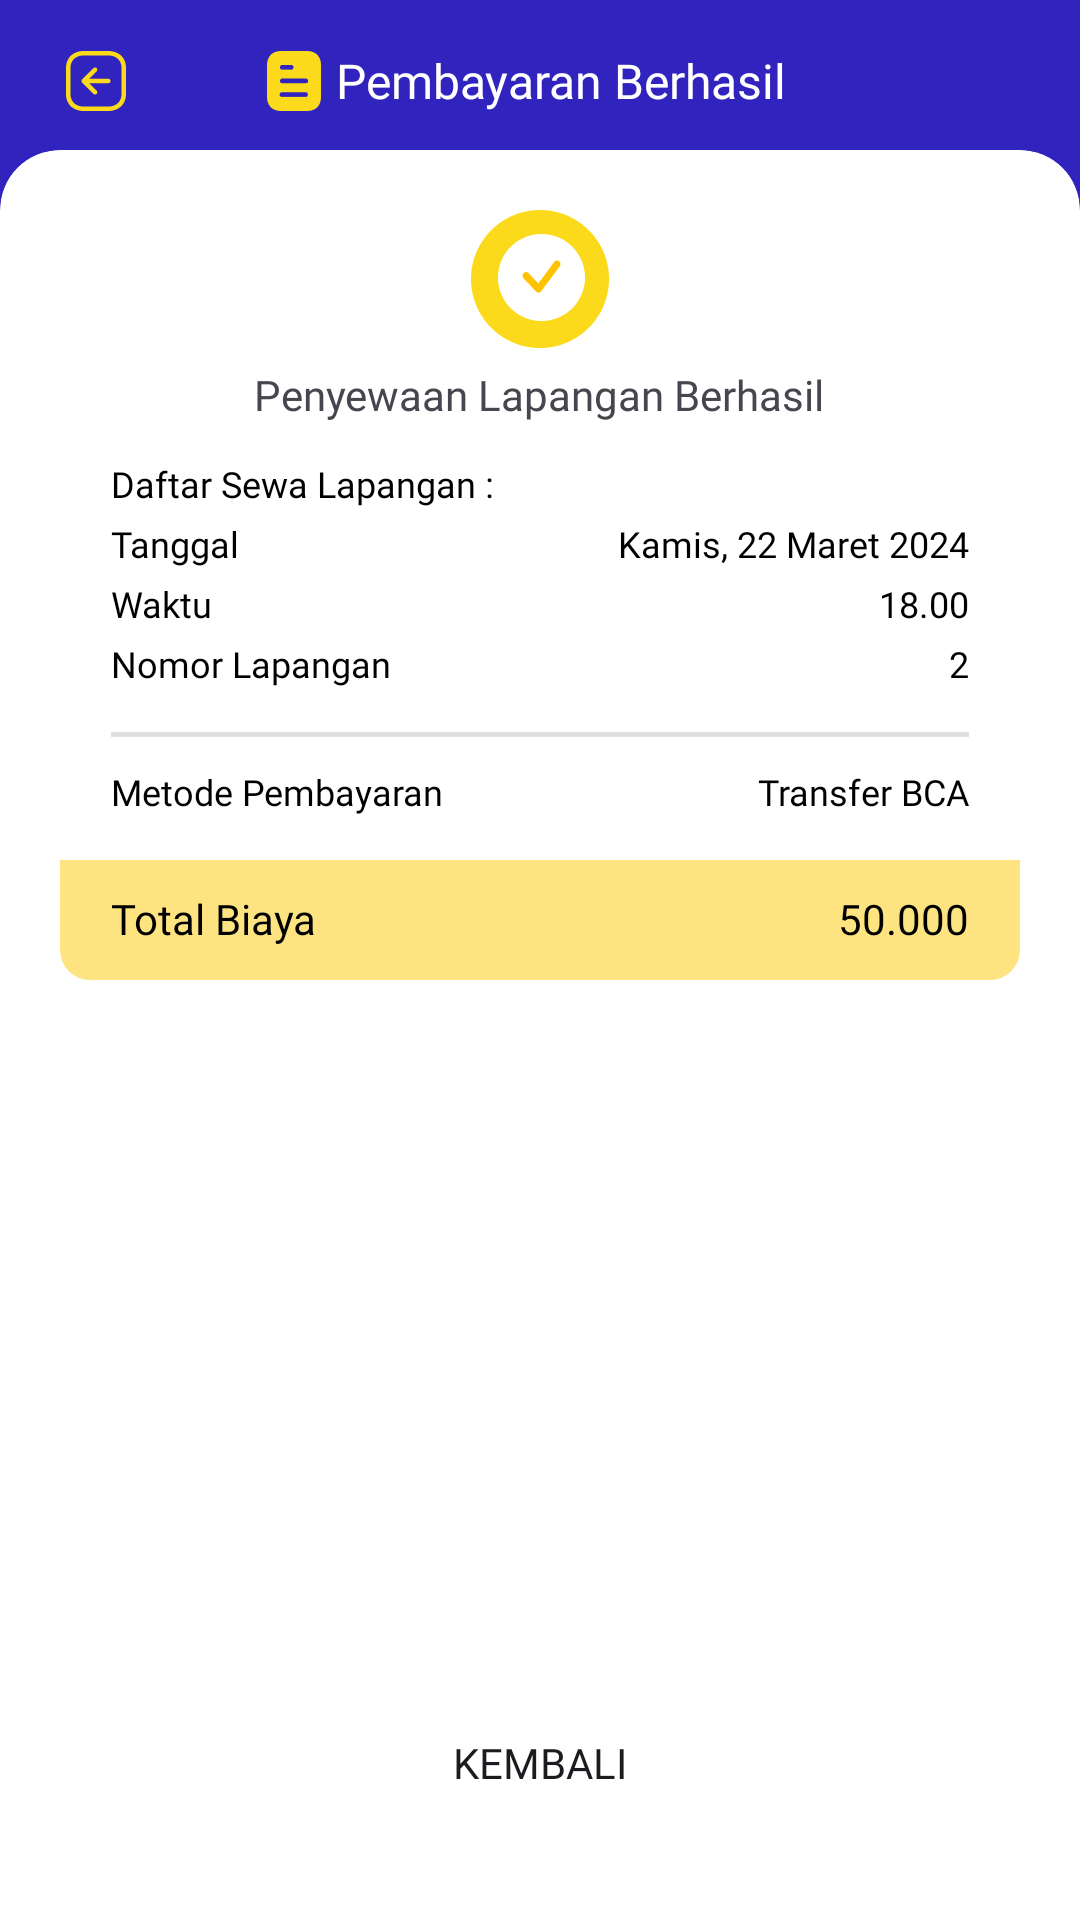

Screen size 1080×1920. Icon name, then its center in pixels as (x,y):
back: (96,81)
detail: (294,81)
success payment: (540,279)
